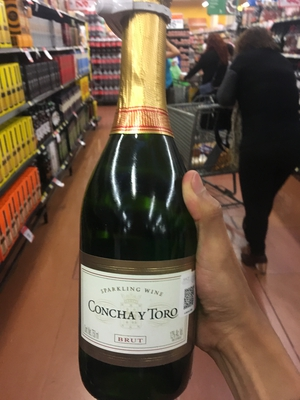brut: (74, 1, 215, 400)
